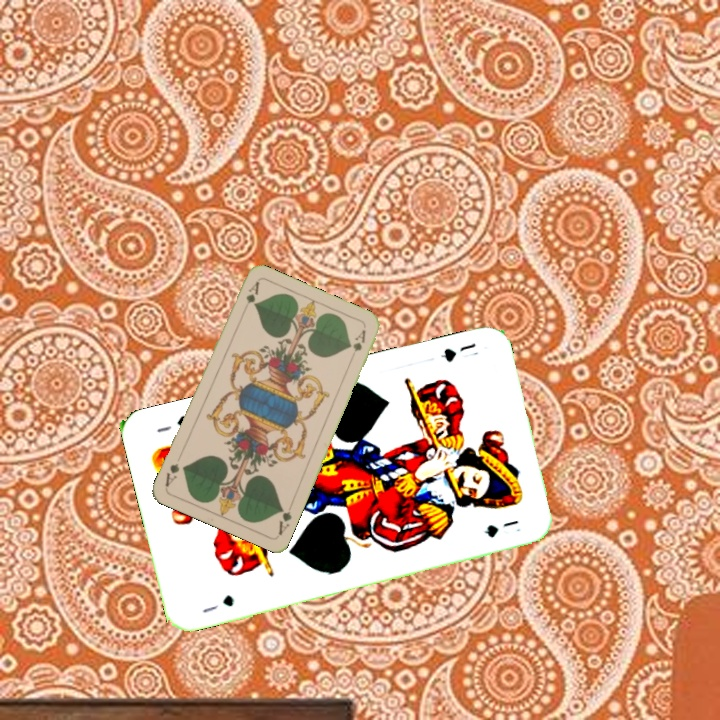GA: (238, 278, 262, 316), (274, 504, 294, 538)
GU: (436, 338, 481, 365), (198, 590, 237, 616)
